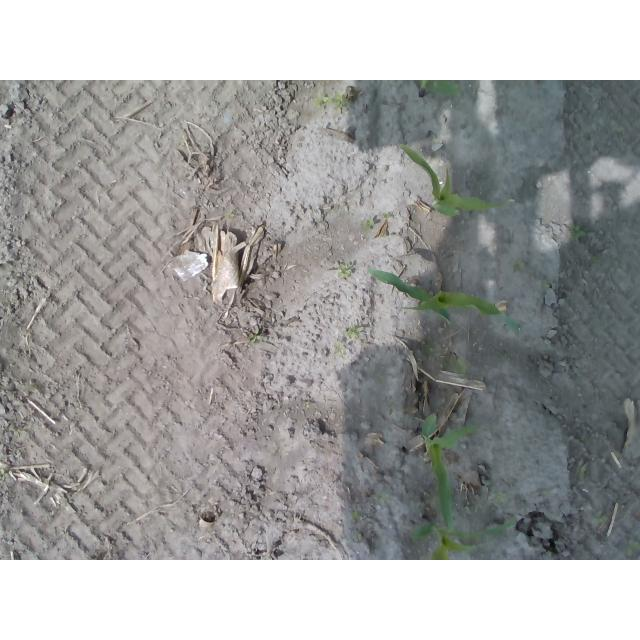Maize: (364, 263, 506, 325), (398, 147, 516, 218), (420, 413, 478, 531), (411, 520, 518, 561), (415, 80, 461, 98)
Weeds: (337, 325, 368, 358), (311, 91, 347, 113), (441, 352, 468, 377), (569, 222, 587, 240), (592, 514, 609, 529), (511, 257, 526, 273), (495, 490, 509, 506), (627, 540, 639, 556), (577, 465, 590, 479), (361, 216, 374, 229), (339, 265, 350, 278), (352, 532, 364, 542), (350, 511, 362, 521), (249, 334, 258, 343), (304, 402, 311, 409)
